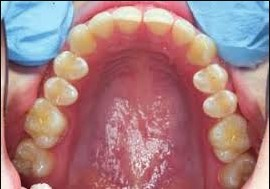UL1BC_healthy: (192, 65, 229, 92)
UL1M_healthy: (212, 116, 254, 153)
UL2BC_healthy: (203, 90, 239, 117)
UL2M_healthy: (219, 157, 255, 185)
ULCI_healthy: (143, 7, 173, 37)
ULC_healthy: (191, 36, 216, 65)
ULLI_healthy: (173, 18, 194, 44)
UR1BC_healthy: (53, 52, 90, 81)
UR1M_healthy: (22, 100, 70, 146)
UR2BC_healthy: (41, 77, 81, 107)
UR2M_healthy: (15, 141, 56, 179)
URCI_healthy: (113, 6, 142, 34)
URC_healthy: (69, 24, 97, 56)
URLI_healthy: (91, 12, 114, 38)
